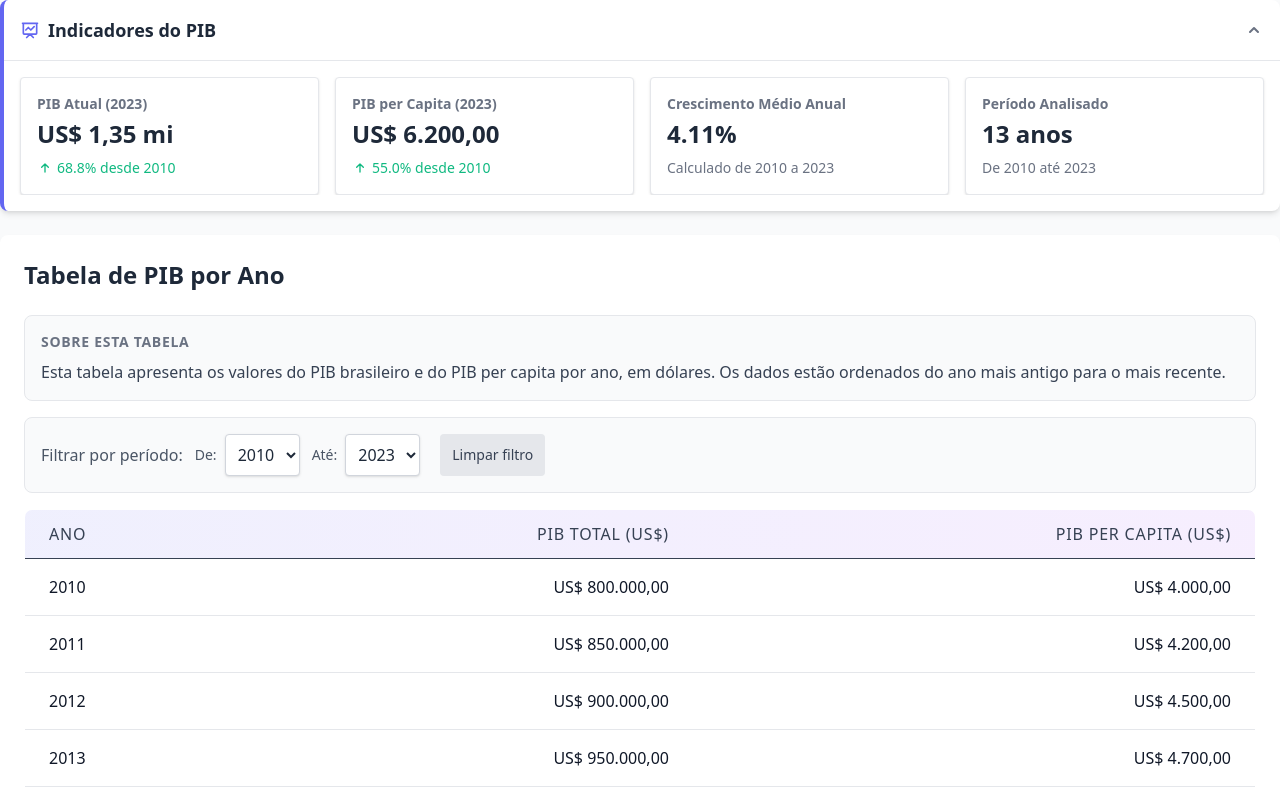
Test: PIBTablePage › should apply year range filter correctly
The image size is (1280, 800).
Expected: the heading "Tabela de PIB por Ano" is shown, [24,258,285,291]
Expected: the text "Filtrar por período:" is shown, [41,443,183,467]
// Simulate changing the start year to 2015
Select "2015" in the dropdown labelled "De:": (262, 455) [225,434,300,476]
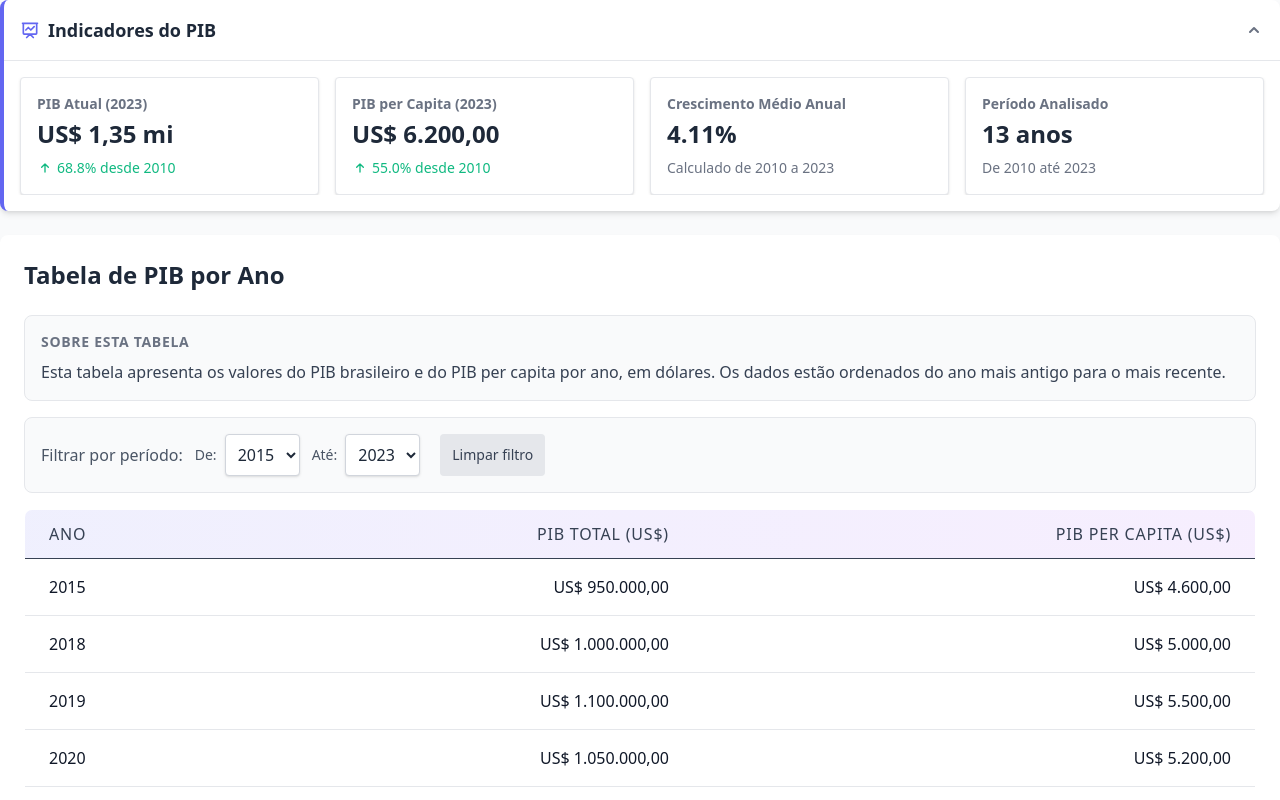
// Simulate changing the end year to 2020
Select "2020" in the dropdown labelled "Até:": (383, 455) [345,434,420,476]
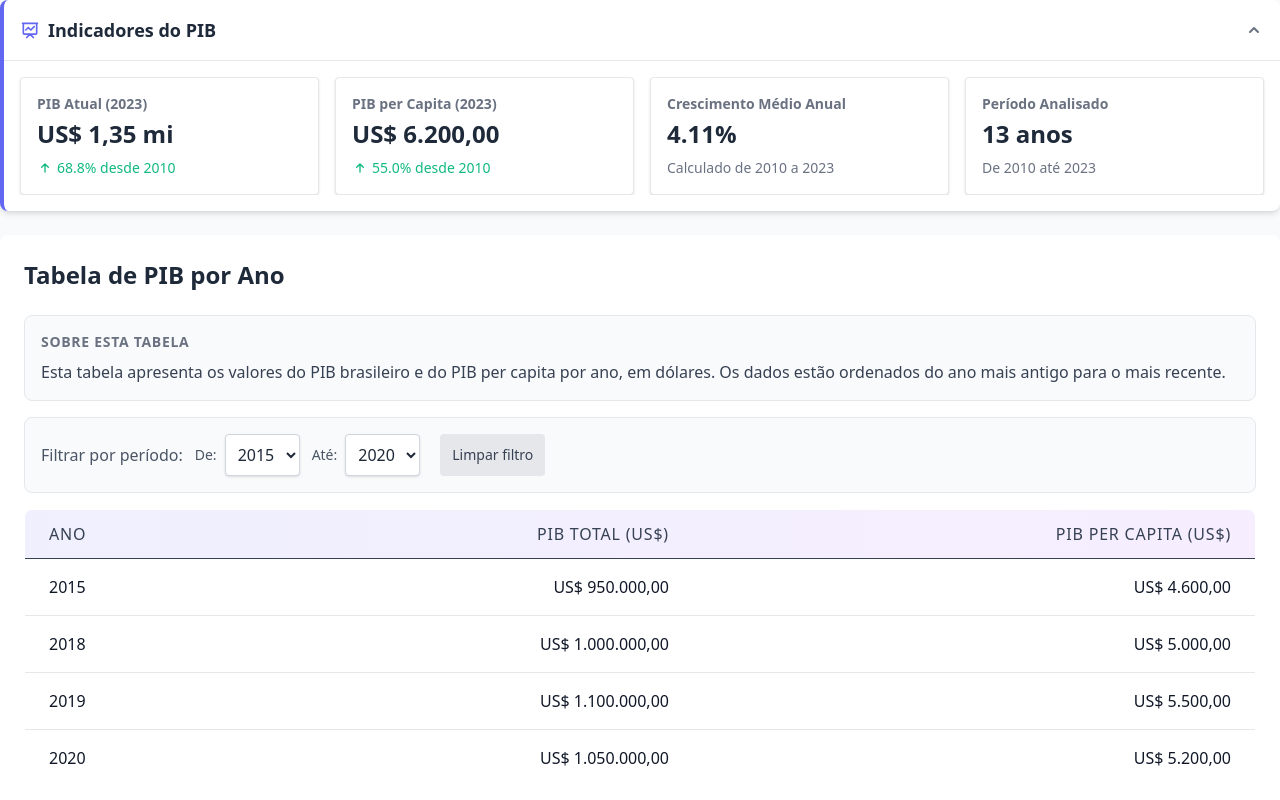
// Test filter reset button
Click the button "Limpar filtro": click(493, 455) [440,434,545,476]
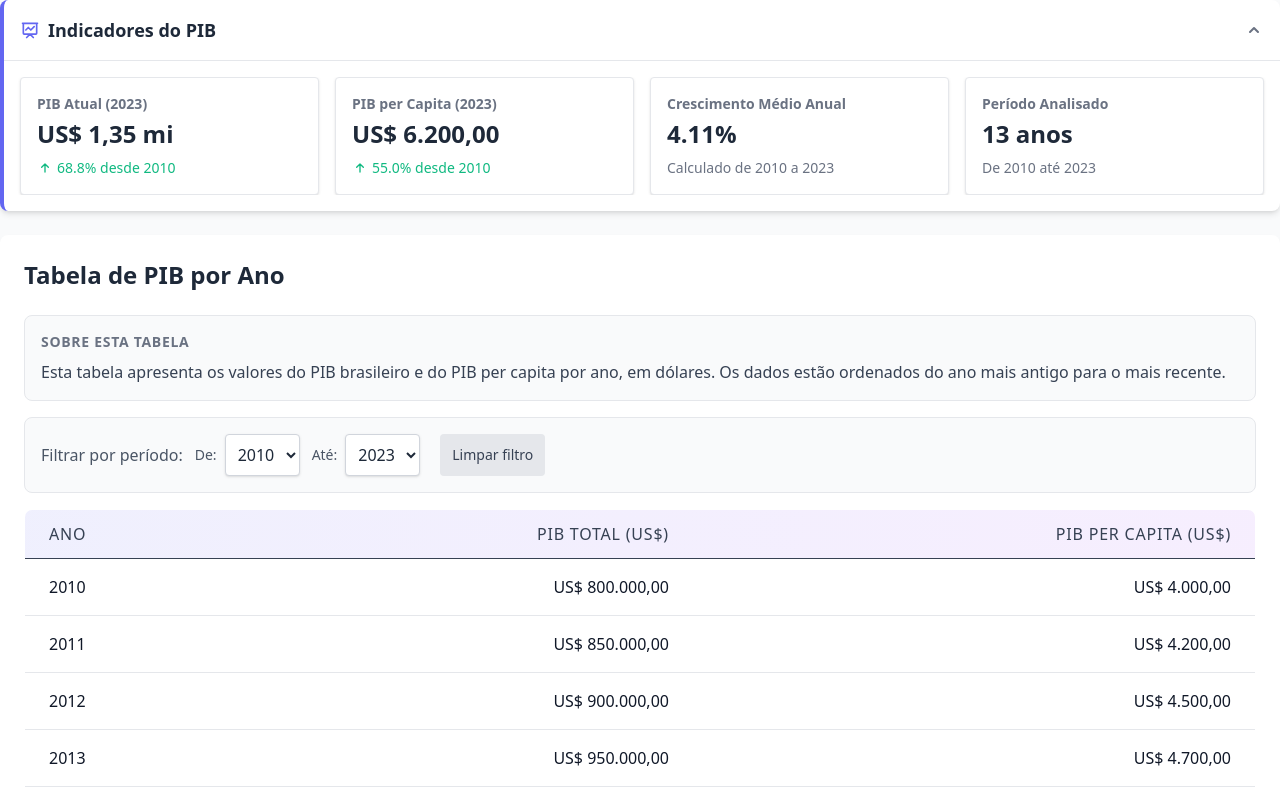
Expected: the row "2010 US$ 800.000,00 US$ 4.000,00" is shown, [24,558,1256,616]
